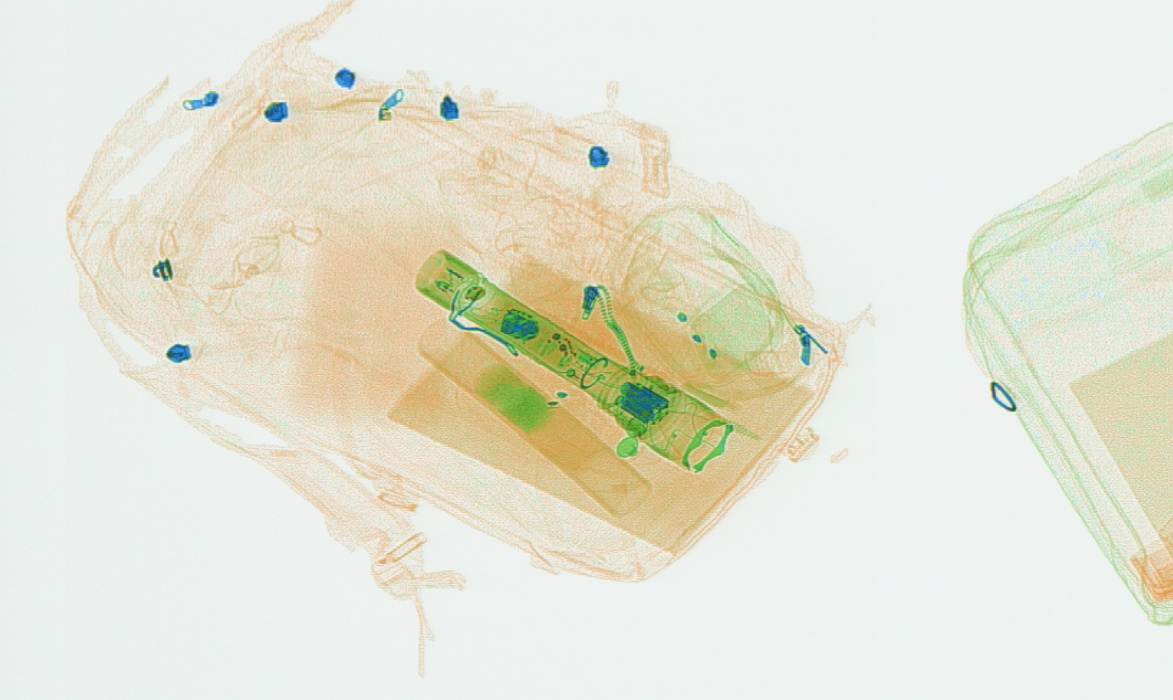firecrackers: (414, 314, 651, 518)
